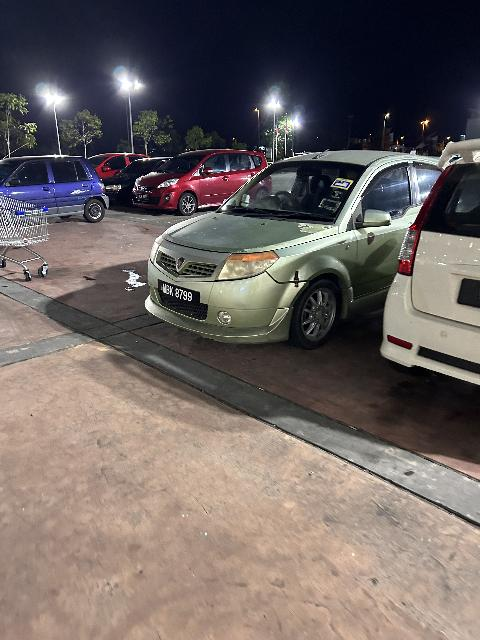License_Plate: (153, 280, 204, 310)
car: (141, 143, 441, 358), (362, 145, 480, 398)
